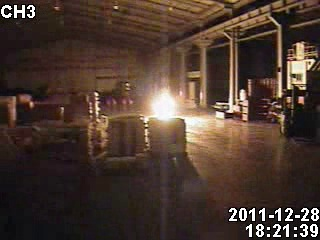fire: (148, 88, 178, 119)
